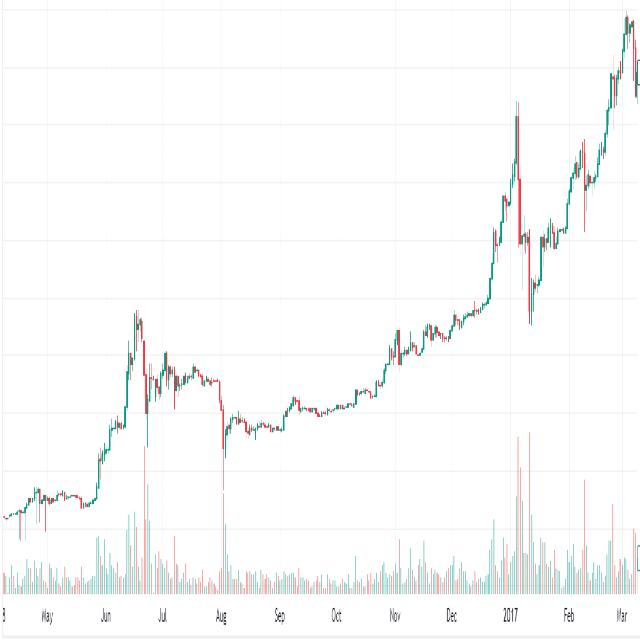Inverse-Head-Shoulders: (514, 89, 582, 334)
